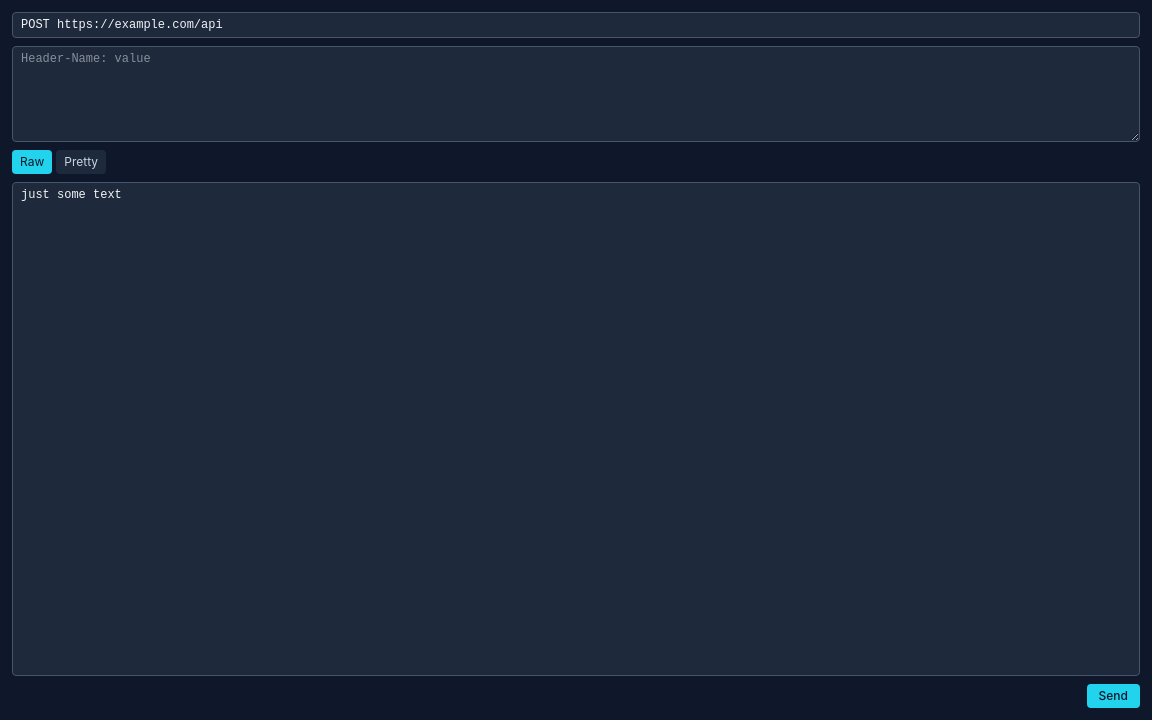
Scenario: ReplayRequestEditor › switching to the Pretty tab with an unrecognized body shows the fallback message
What coordinates should you click on to do the following:
click the button with test id "replay-request-editor-tab-pretty"
I would click on:
 (81, 162)
Its box is [56,150,106,174].
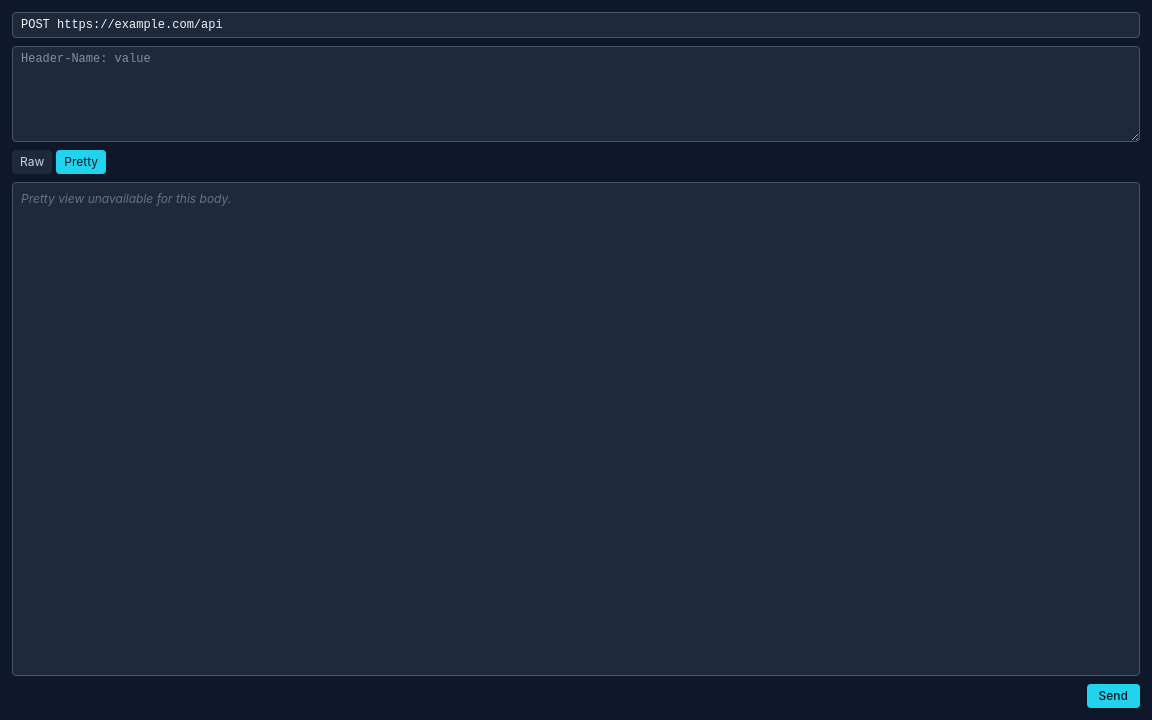
Expected: the text "Pretty view unavailable for this body." is shown, [21,191,231,206]
